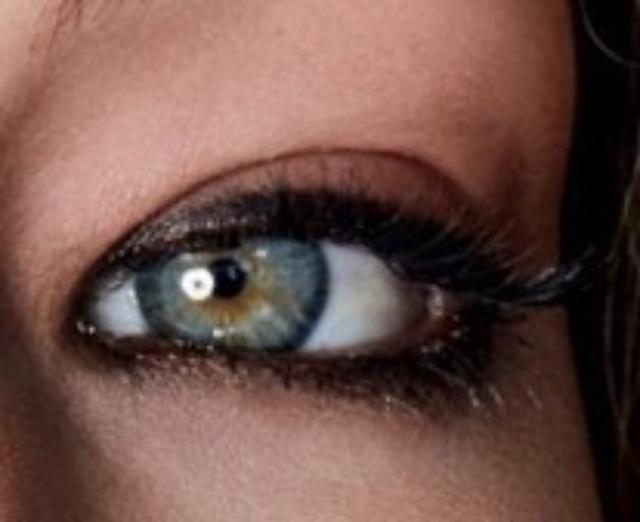eye: (131, 223, 337, 348)
